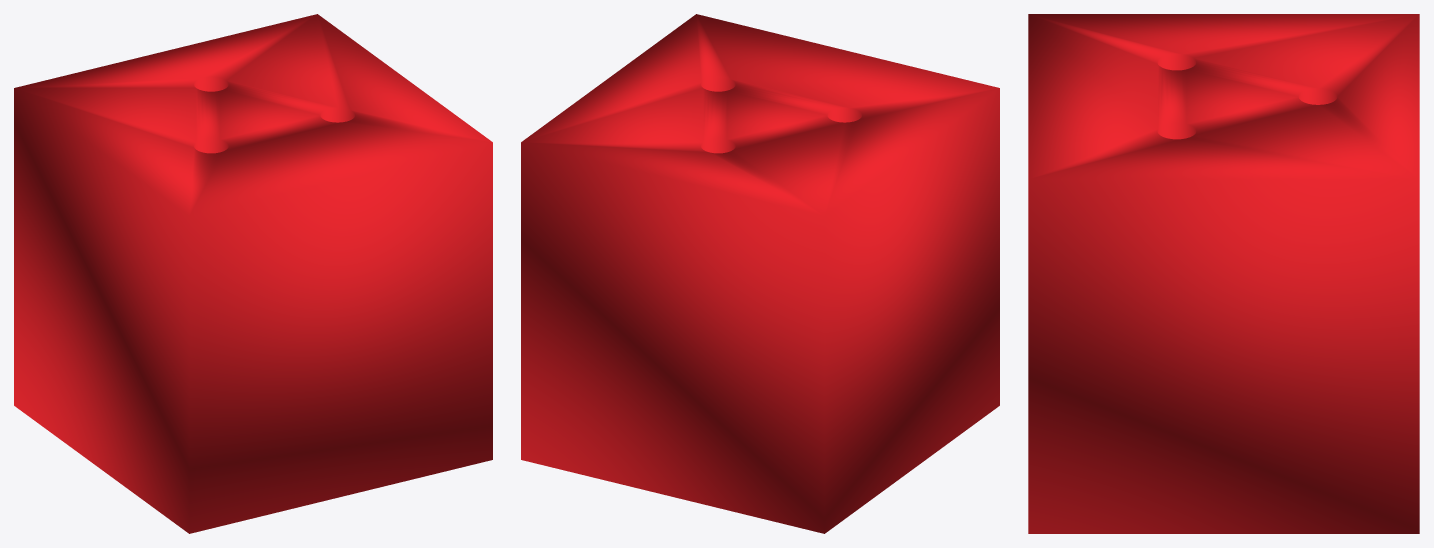
3 renders of one model, left to right at view 1: azimuth 30°, elevation 25°; view 2: azimuth 150°, elevation 25°; view 3: azimuth 270°, elevation 25°, orthographic. The views are drawn at different scales.
Visible parts, largest first — view 1: gripping_item_v1; view 2: gripping_item_v1; view 3: gripping_item_v1.
Part boxes in pixels (x1,y1,x2,y2): gripping_item_v1: [14, 14, 492, 533]; gripping_item_v1: [521, 14, 999, 533]; gripping_item_v1: [1028, 14, 1419, 533].
Bounding box in the file's own units: 0.6 × 0.6 × 0.6.
Materials: 1 (1 with a texture image).
